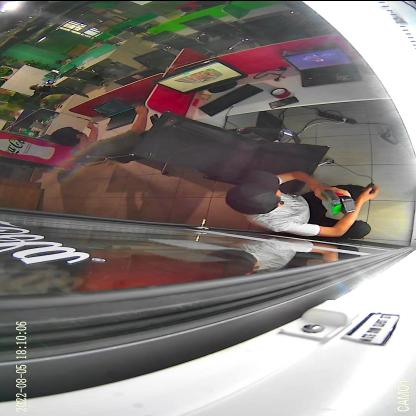green: (322, 189, 342, 215)
red: (335, 191, 355, 214)
